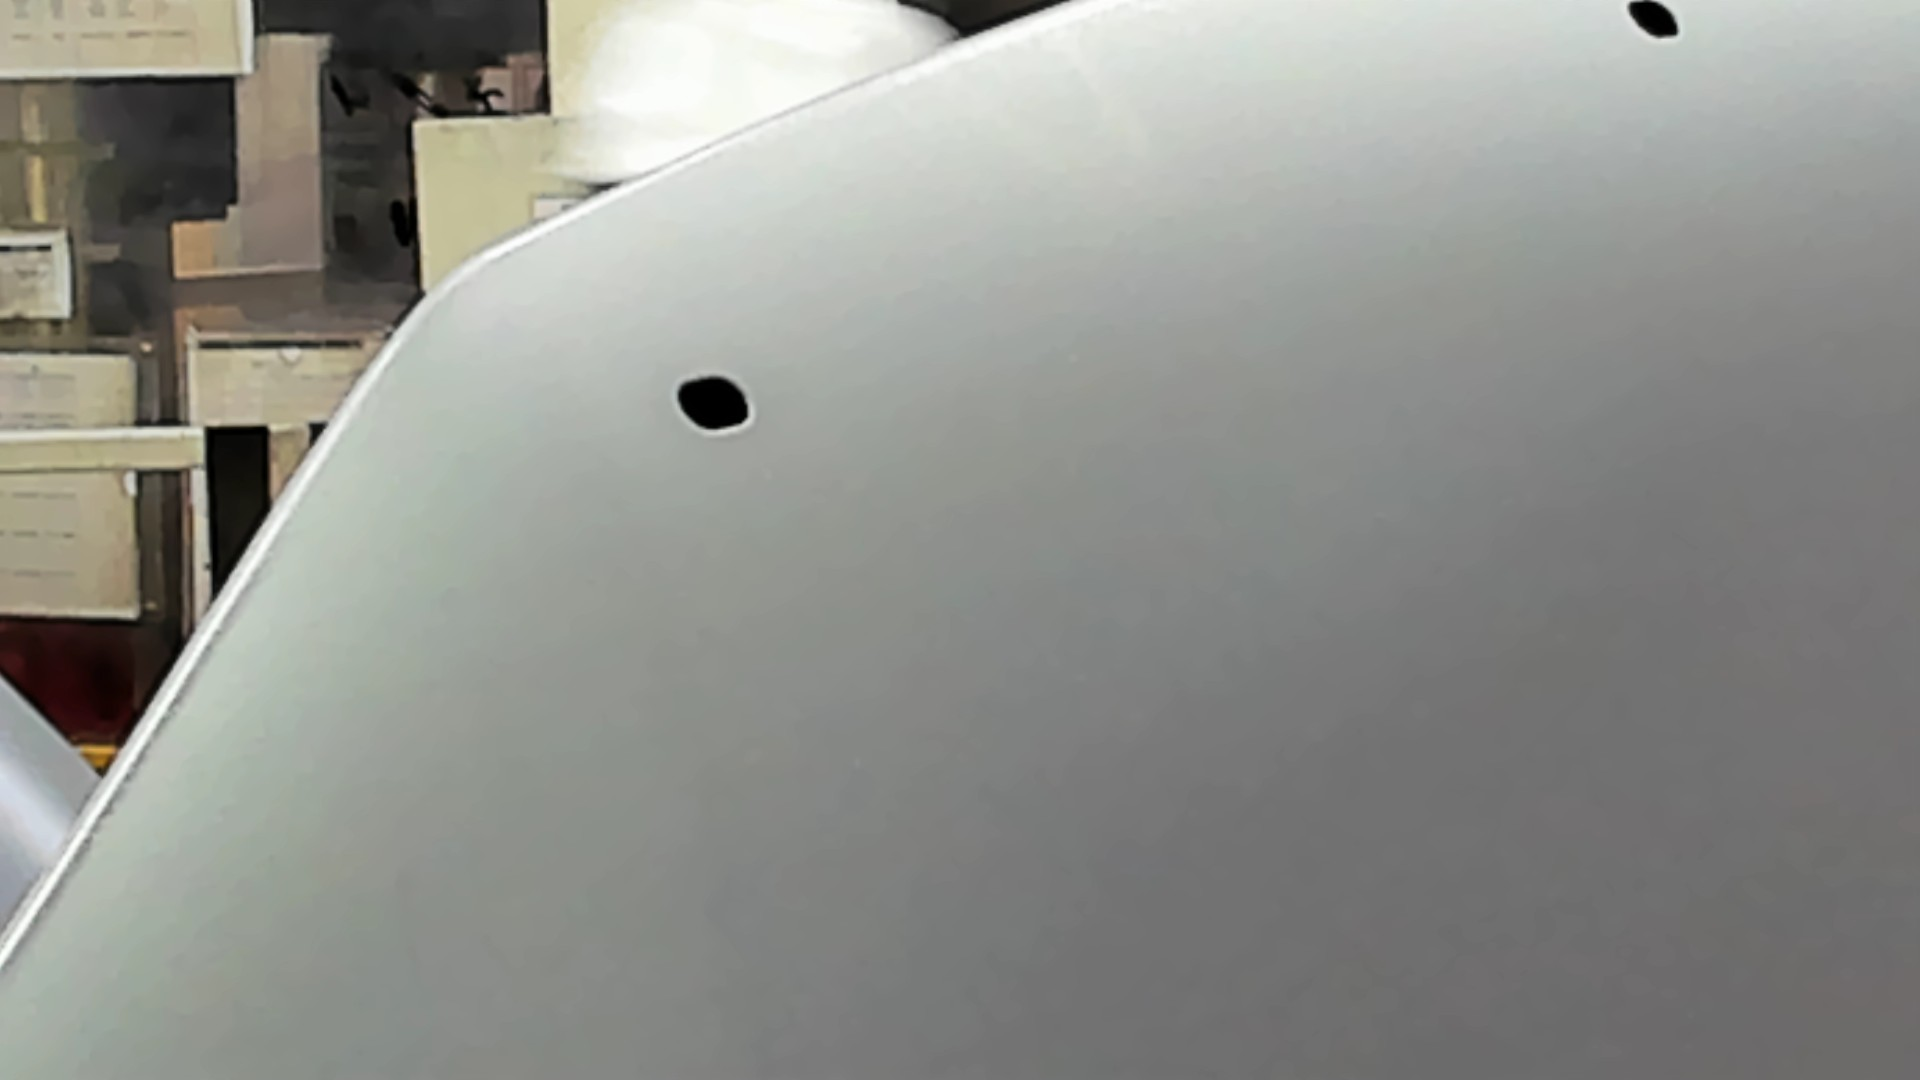amorfo: (669, 365, 760, 440), (1623, 1, 1684, 47)
